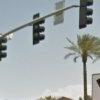Tree: (62, 32, 100, 79)
